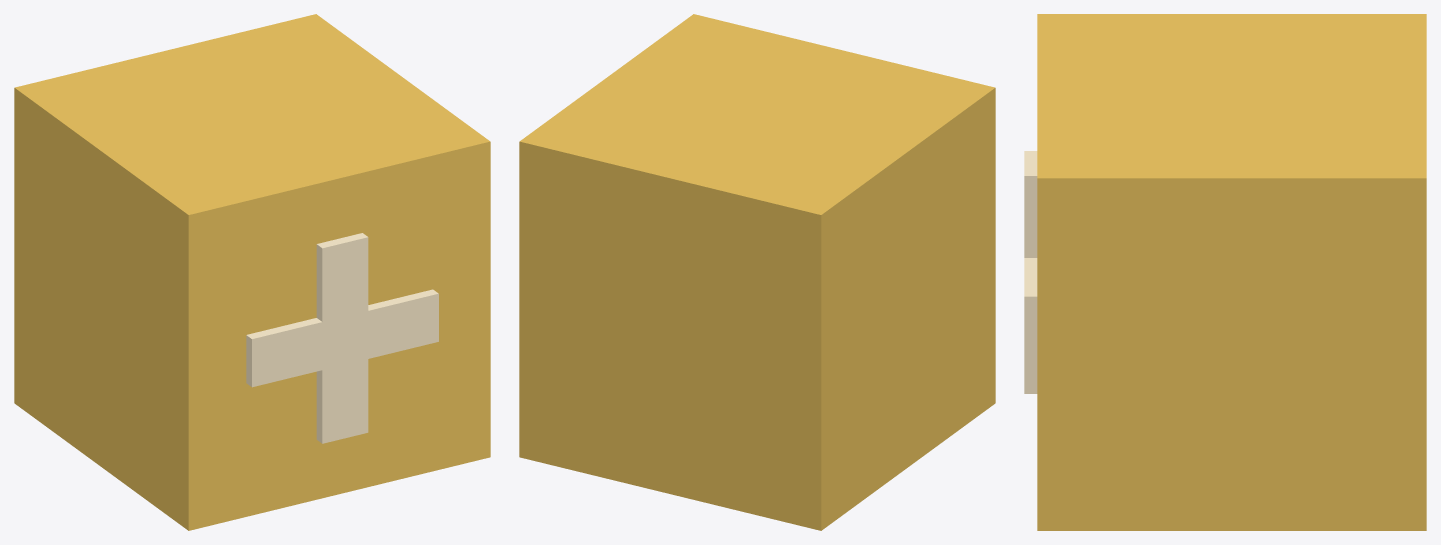
Rendered from pickup.gltf.
The picture shows the model from 3 angles, left to right: view 1: azimuth 30°, elevation 25°; view 2: azimuth 150°, elevation 25°; view 3: azimuth 270°, elevation 25°; orthographic projection. The views are drawn at different scales.
Bounding box in the file's own units: 1.05 × 1.05 × 1.08.
1 material, 1 textured.
